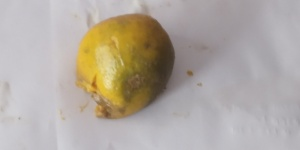BAD: (77, 12, 174, 120)
